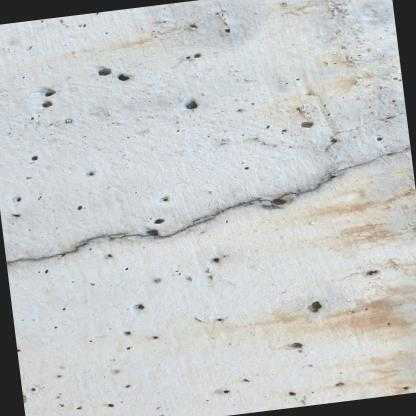crack: (5, 146, 410, 265)
